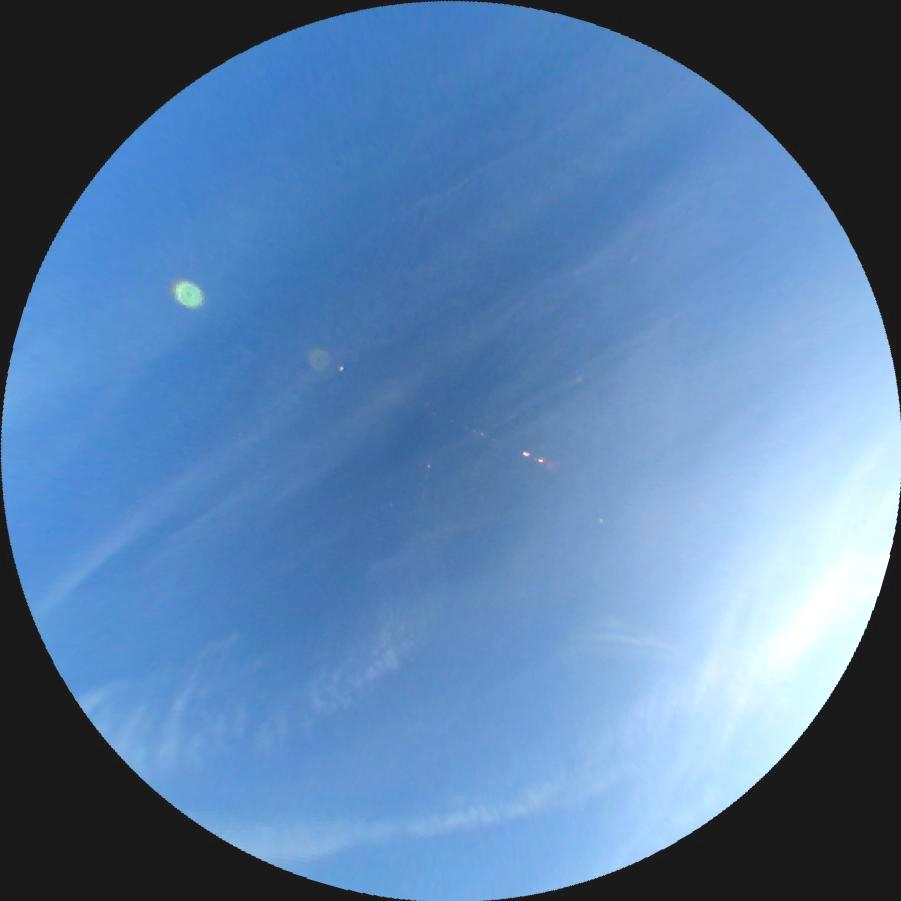contrail veryold: (74, 573, 440, 800), (207, 750, 577, 875)
